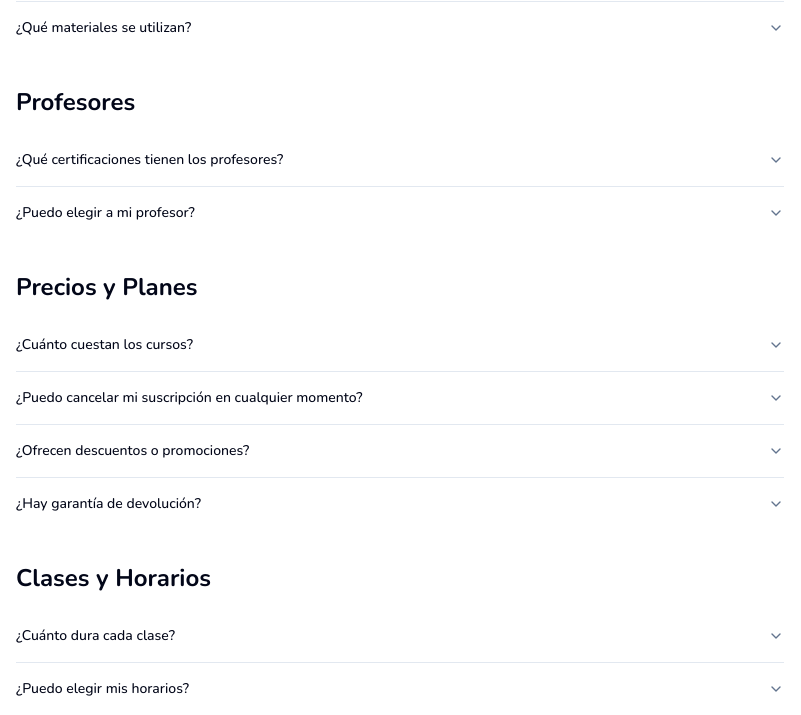
it: FAQ pricing and class duration › directs students to current shop prices and explains the available plans
(page scrolled)
Click the button "¿Cuánto cuestan los cursos?" at (104, 344), box [16,319,784,371]
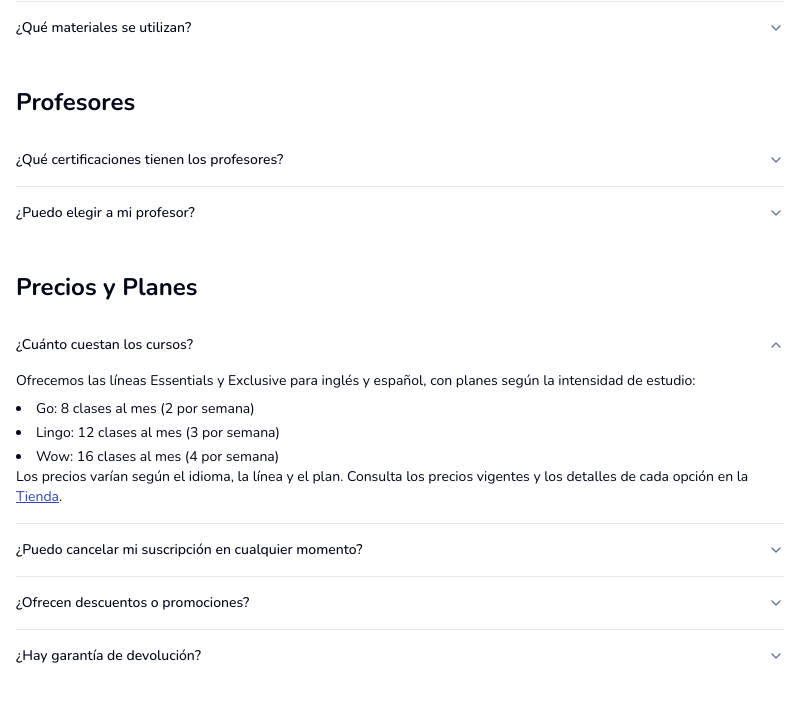
Expected: the text "Essentials y Exclusive" is shown, [16,371,696,390]
Expected: the text "Go: 8 clases al mes (2 por semana)" is shown, [36,399,255,418]
Expected: the text "Lingo: 12 clases al mes (3 por semana)" is shown, [36,423,280,442]
